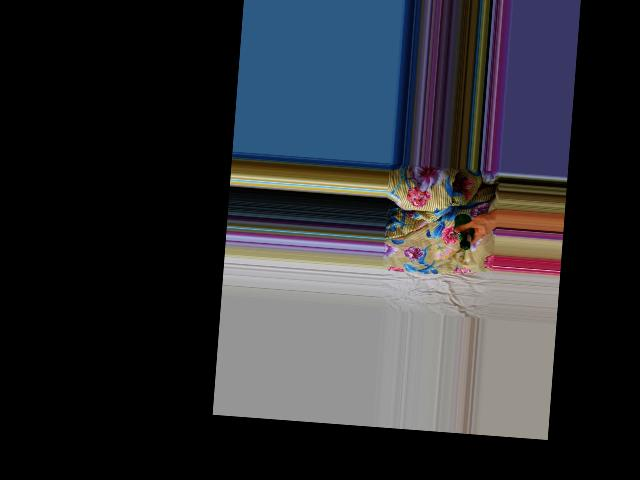beer: (453, 213, 476, 249)
